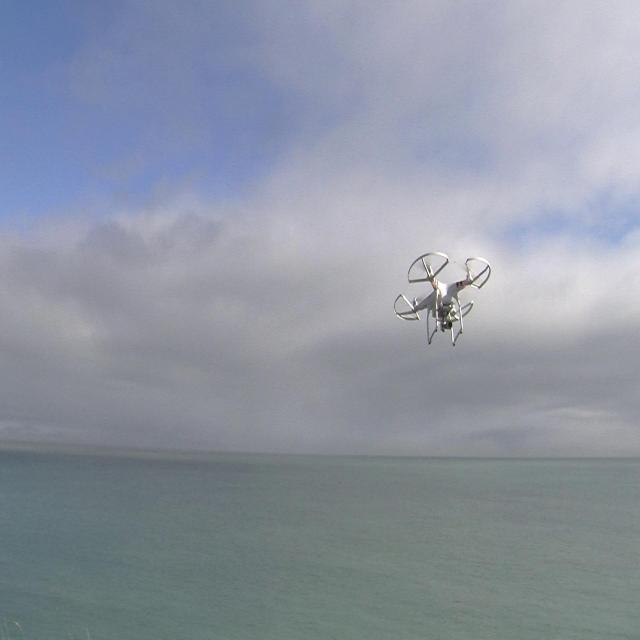drone: (388, 237, 493, 352)
